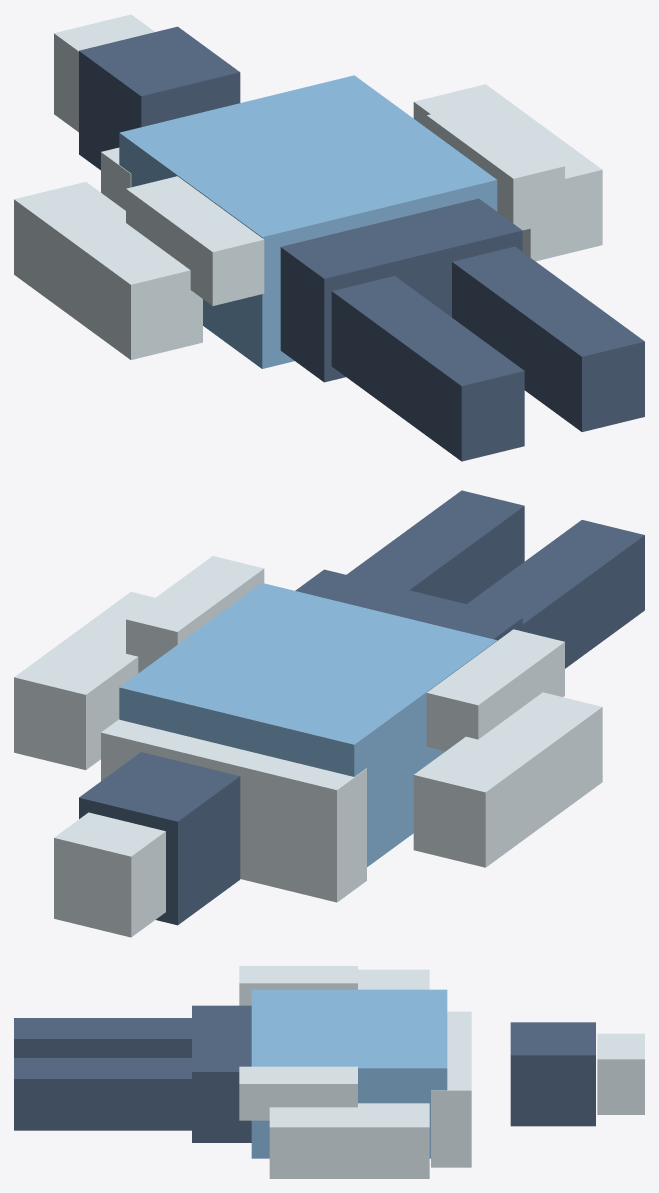
File: nix-calder_female_battle.glb
3 views of the same model, one above another, from view 1: azimuth 30°, elevation 25°; view 2: azimuth 150°, elevation 25°; view 3: azimuth 270°, elevation 25° (orthographic). The views are drawn at different scales.
Visible parts, largest first — view 1: nix-calder_female_body; view 2: nix-calder_female_body; view 3: nix-calder_female_body.
Boxes of the visible parts, bbox=[...] form: nix-calder_female_body: bbox=[14, 14, 644, 461]; nix-calder_female_body: bbox=[14, 490, 644, 937]; nix-calder_female_body: bbox=[14, 966, 644, 1178].
Size of the model in its own units: 1.1 by 0.335 by 1.86.
